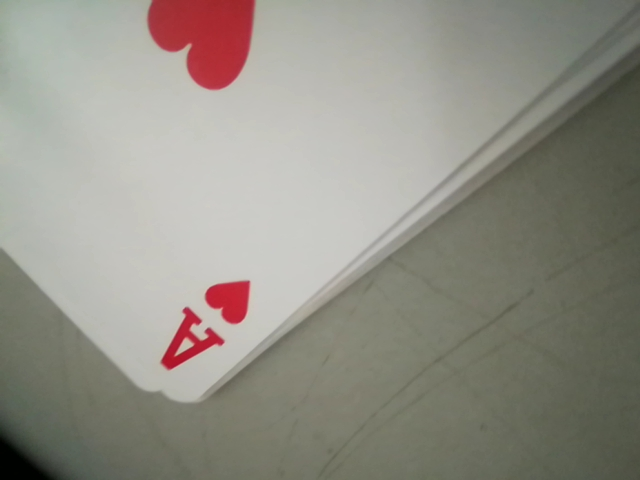hx a: (158, 282, 250, 386)
